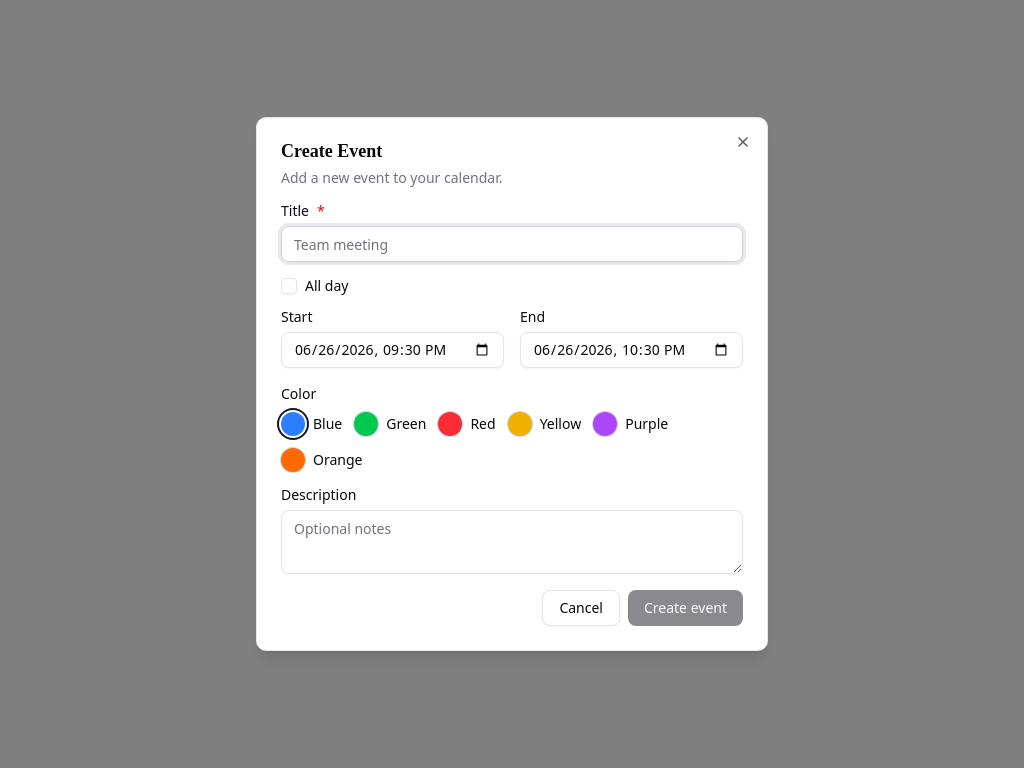
Test: EventCreateDialog › validation › enables the Create button once title has non-whitespace content
The width and height of the screenshot is (1024, 768).
Expected: the button "Create event" is disabled, [628, 590, 743, 626]
Type "Team Meeting" into the field labelled "Title *" at (512,244), box [281, 226, 743, 262]
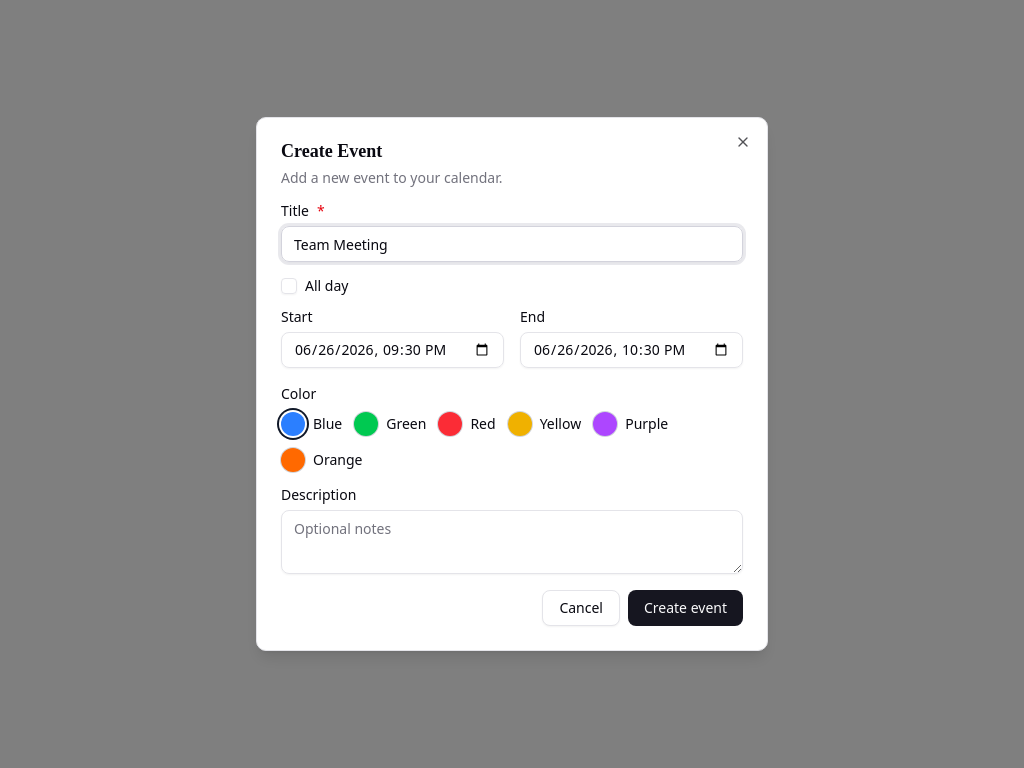
Expected: the button "Create event" is enabled, [628, 590, 743, 626]
